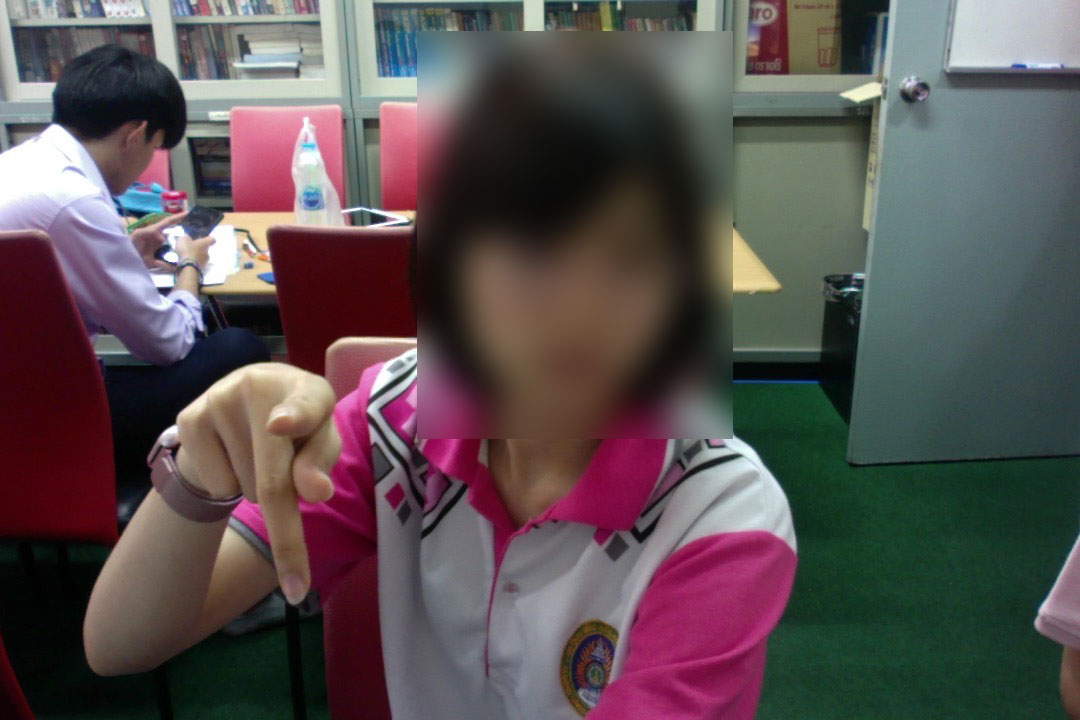por: (167, 357, 355, 610)
